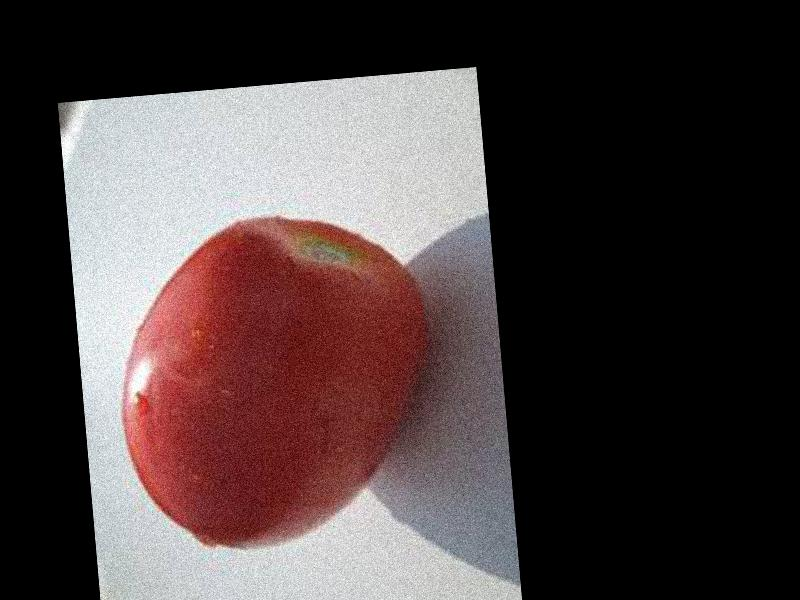Tomato: (106, 205, 442, 556)
